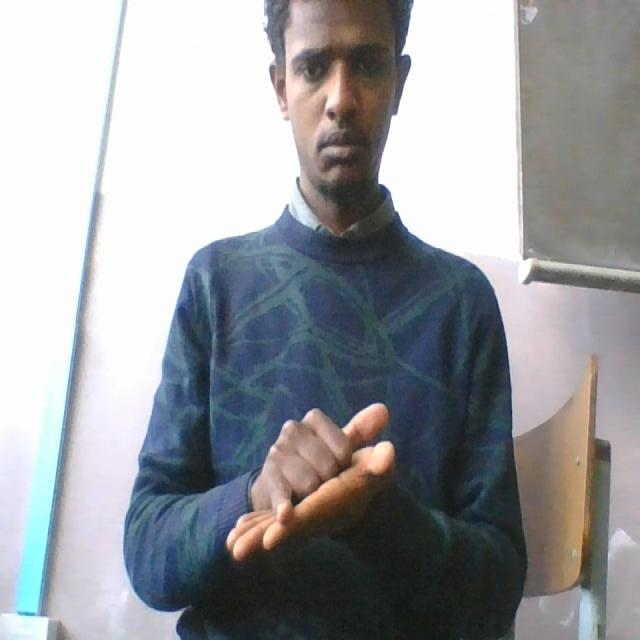keziya: (221, 400, 406, 566)
